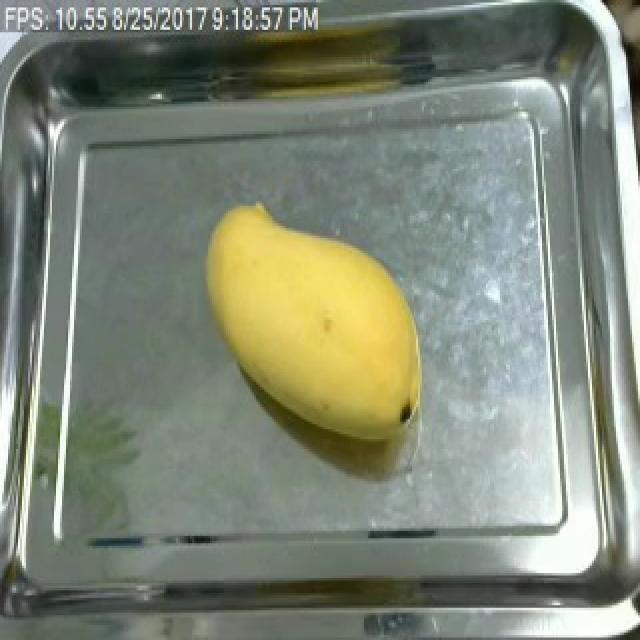fruit: (190, 198, 434, 459)
